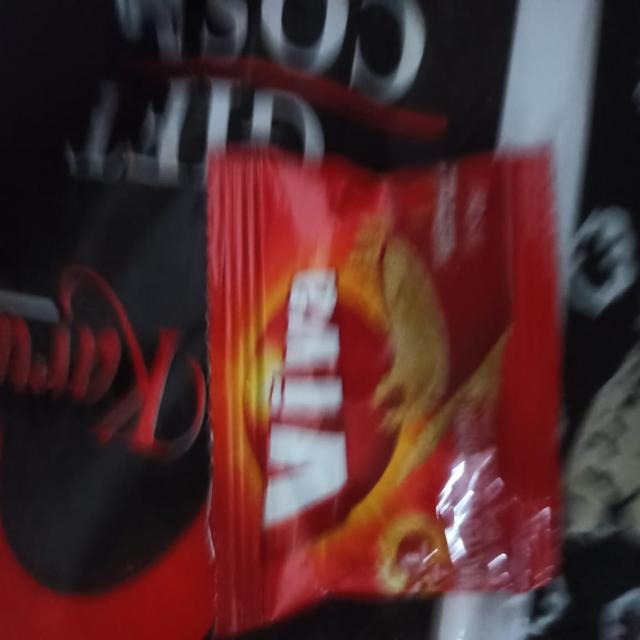Viva Malt: (180, 131, 568, 640)
